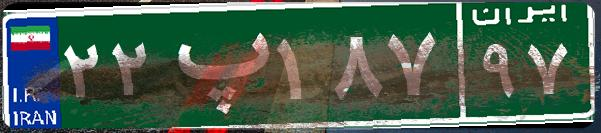1: (273, 28, 330, 110)
2: (57, 26, 110, 107), (110, 28, 158, 105)
7: (385, 28, 445, 110), (525, 38, 570, 115)
8: (330, 28, 385, 110)
9: (475, 38, 525, 113)
پ: (158, 15, 273, 115)
